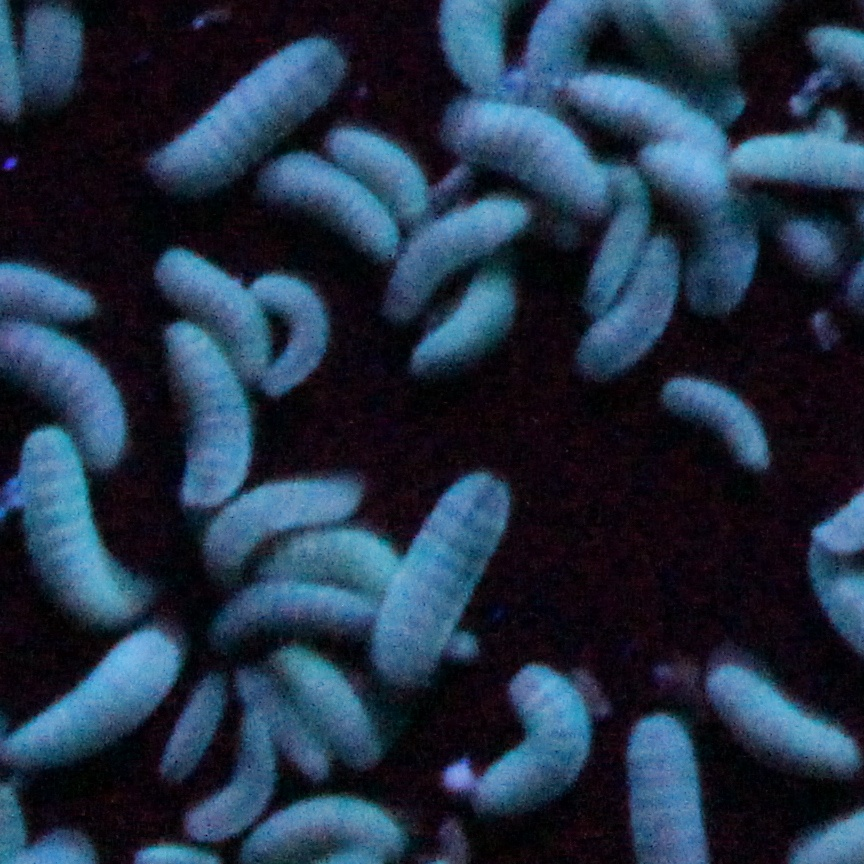larve: (127, 34, 340, 182), (377, 471, 506, 684), (22, 421, 147, 623), (379, 193, 542, 314), (463, 662, 595, 805), (158, 321, 256, 509), (154, 239, 274, 371), (208, 475, 361, 566), (286, 650, 399, 771), (558, 68, 729, 143), (579, 239, 674, 373), (661, 373, 779, 475), (277, 150, 399, 248), (211, 800, 420, 857), (186, 723, 283, 841), (322, 121, 440, 214), (242, 666, 340, 775), (408, 273, 520, 368), (252, 271, 333, 400), (588, 162, 645, 321), (220, 582, 367, 643), (256, 525, 408, 575), (170, 680, 236, 771)
